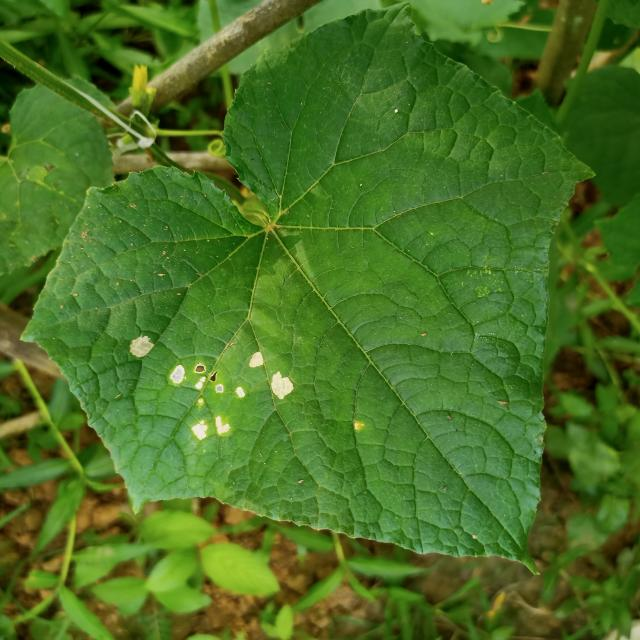disease_cucumber: (130, 334, 295, 439)
